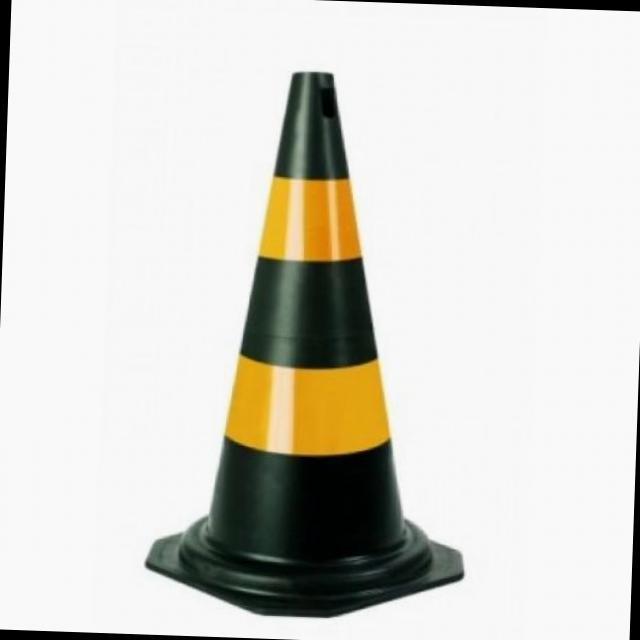cone: (152, 64, 480, 612)
